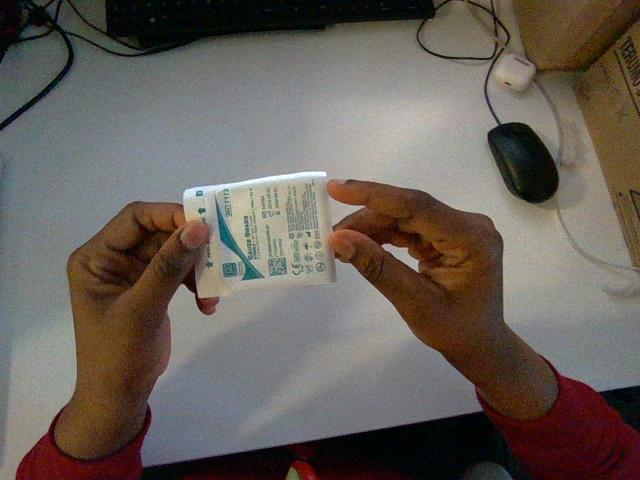gauze: (183, 172, 335, 297)
